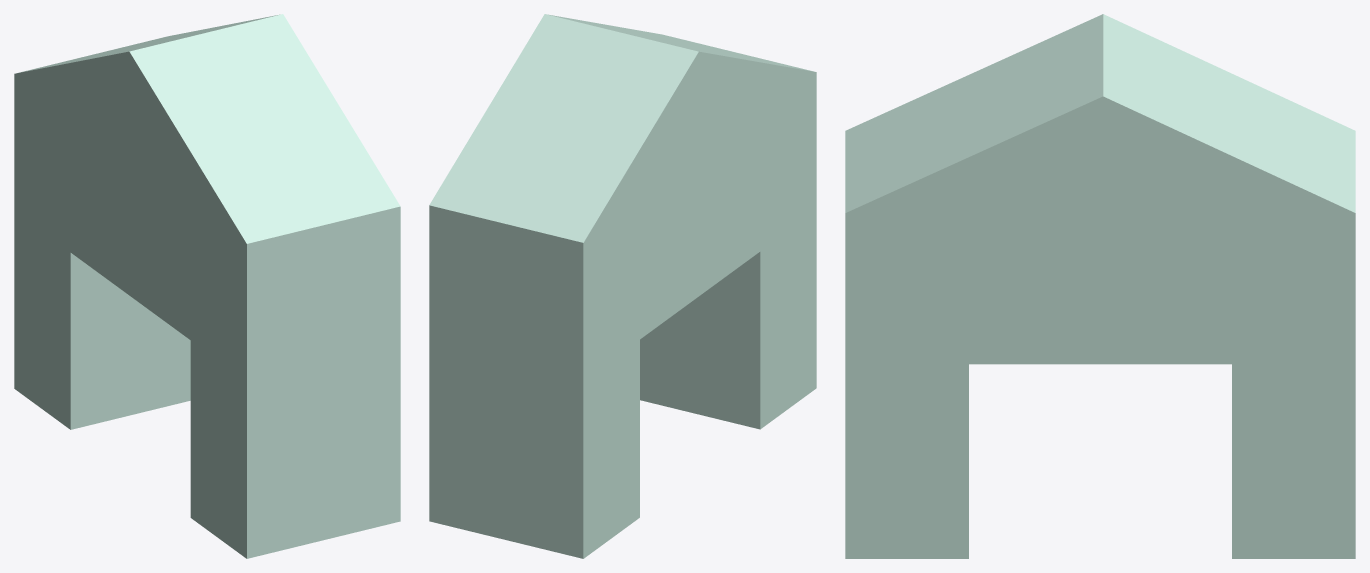
3 renders of one model, left to right at view 1: azimuth 30°, elevation 25°; view 2: azimuth 150°, elevation 25°; view 3: azimuth 270°, elevation 25°, orthographic. The views are drawn at different scales.
Visible parts, largest first — view 1: Renderer Node; view 2: Renderer Node; view 3: Renderer Node.
Boxes of the visible parts, bbox=[...] form: Renderer Node: bbox=[14, 14, 400, 558]; Renderer Node: bbox=[429, 14, 816, 558]; Renderer Node: bbox=[845, 14, 1355, 558].
Size of the model in its own units: 0.4922 by 1.29 by 1.29.
